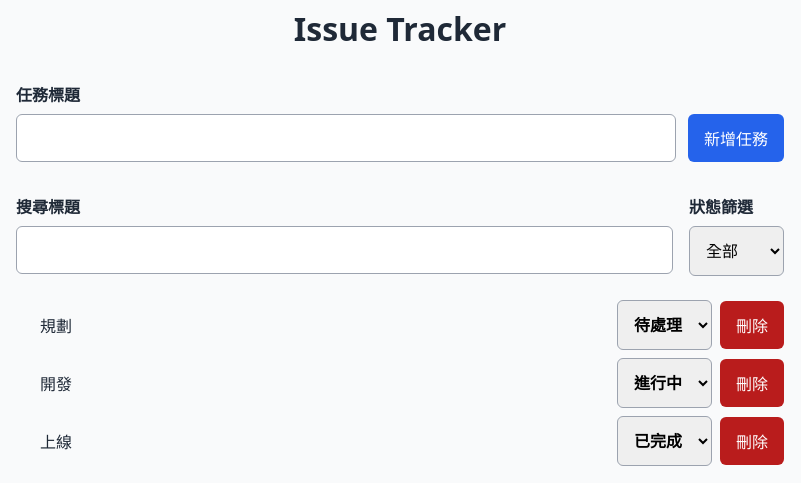
Test: App › 可依各狀態篩選，選擇全部時顯示所有任務
Select "待處理" in the dropdown labelled "狀態篩選" at (736, 251), box [689,226,784,276]
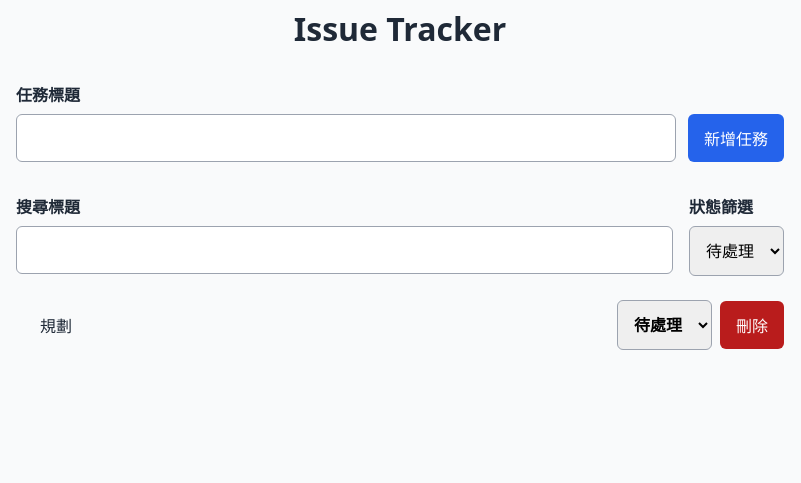
Check: the text "規劃" is shown, box [40,313,72,337]
Check: the number of list items is 1, box [40,300,784,350]
Select "進行中" in the dropdown labelled "狀態篩選" at (736, 251), box [689,226,784,276]
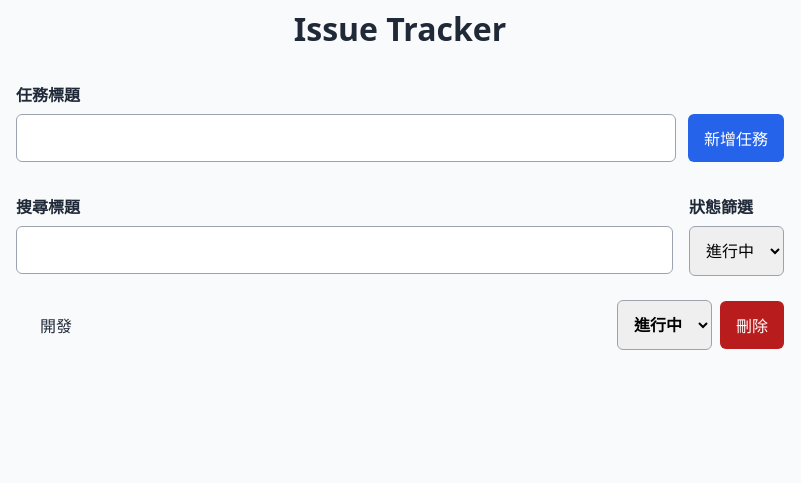
Check: the number of list items is 1, box [40,300,784,350]
Check: the text "開發" is shown, box [40,313,72,337]
Select "已完成" in the dropdown labelled "狀態篩選" at (736, 251), box [689,226,784,276]
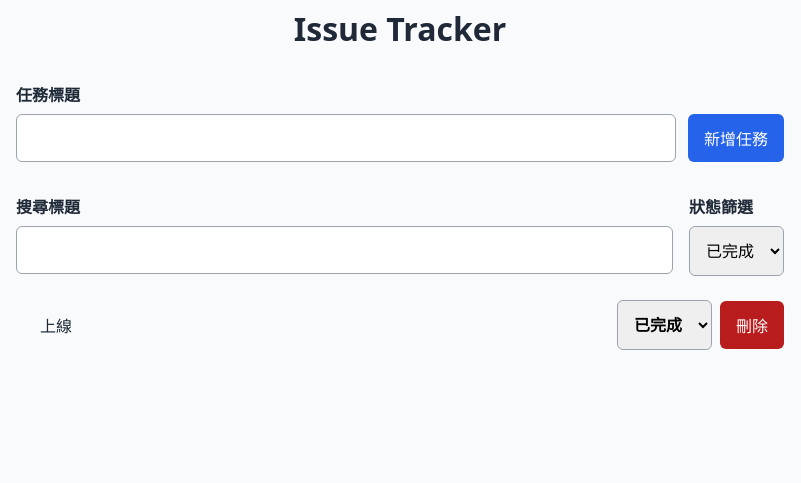
Check: the number of list items is 1, box [40,300,784,350]
Check: the text "上線" is shown, box [40,313,72,337]
Select "全部" in the dropdown labelled "狀態篩選" at (736, 251), box [689,226,784,276]
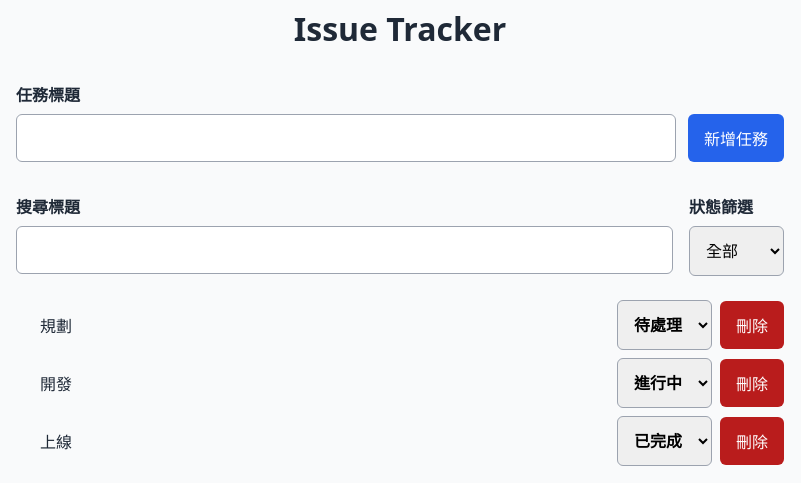
Check: the number of list items is 3, box [40,300,784,350]; [40,358,784,408]; [40,416,784,466]
